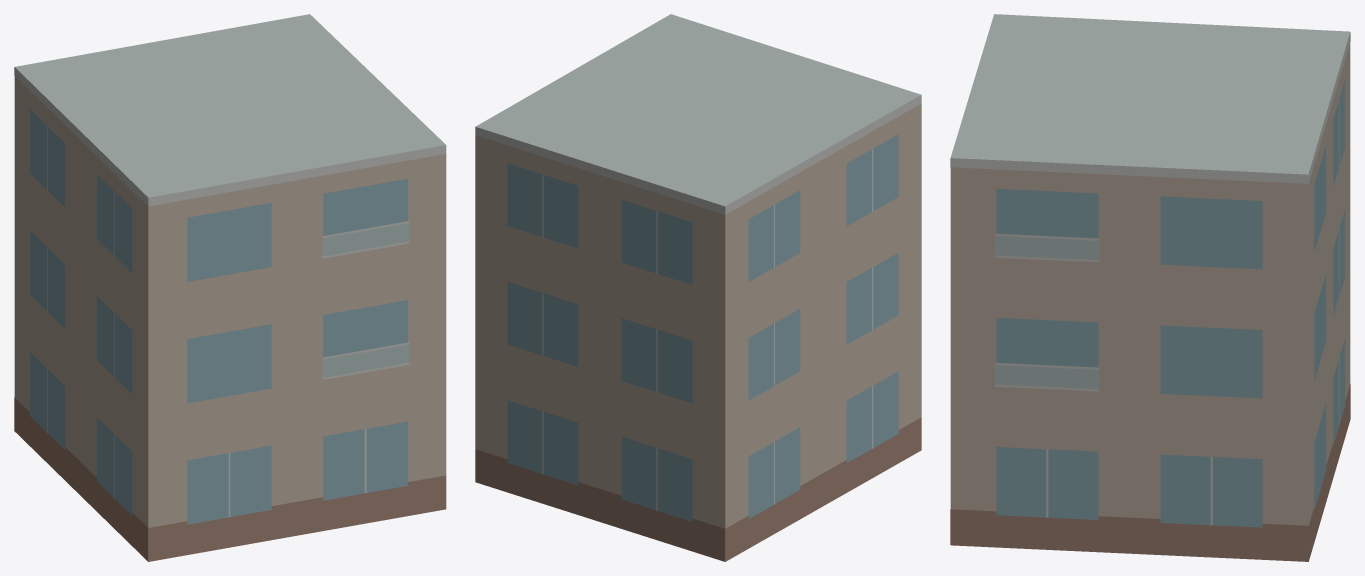
The model's file is survey-upis-32705364.glb.
3 views of the same model, side by side, from view 1: azimuth 30°, elevation 25°; view 2: azimuth 150°, elevation 25°; view 3: azimuth 270°, elevation 25° (orthographic). The views are drawn at different scales.
Parts seen in each view (by area): view 1: survey-upis-32705364.tmp; view 2: survey-upis-32705364.tmp; view 3: survey-upis-32705364.tmp.
Boxes of the visible parts, <box> form: survey-upis-32705364.tmp: <box>14,14,446,561</box>; survey-upis-32705364.tmp: <box>475,14,921,561</box>; survey-upis-32705364.tmp: <box>950,14,1350,561</box>.
Bounding box in the file's own units: 9.08 × 10.2 × 9.56.
